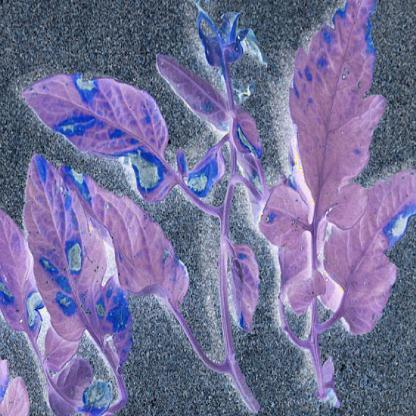Potato leaf late blight: (20, 73, 178, 212), (290, 1, 388, 204), (24, 150, 100, 342), (326, 166, 415, 292), (60, 361, 116, 414)
